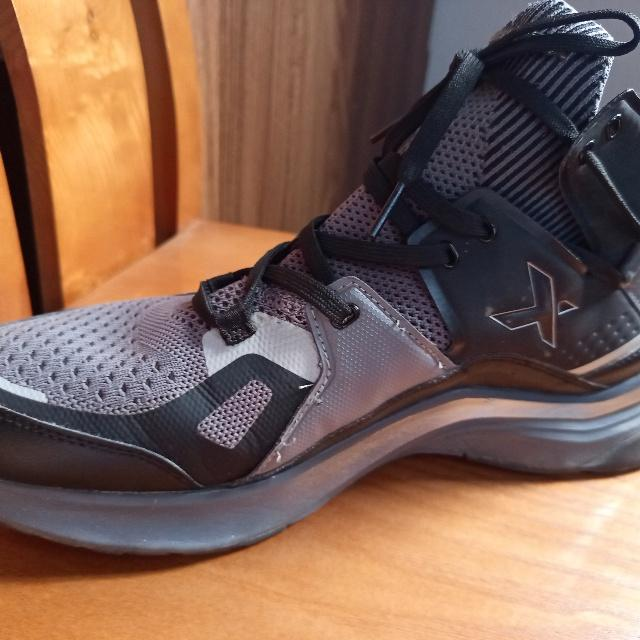broken: (269, 435, 297, 463), (391, 314, 408, 334)
